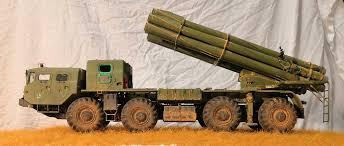MIL_SAM_TEL: (21, 9, 331, 133)
